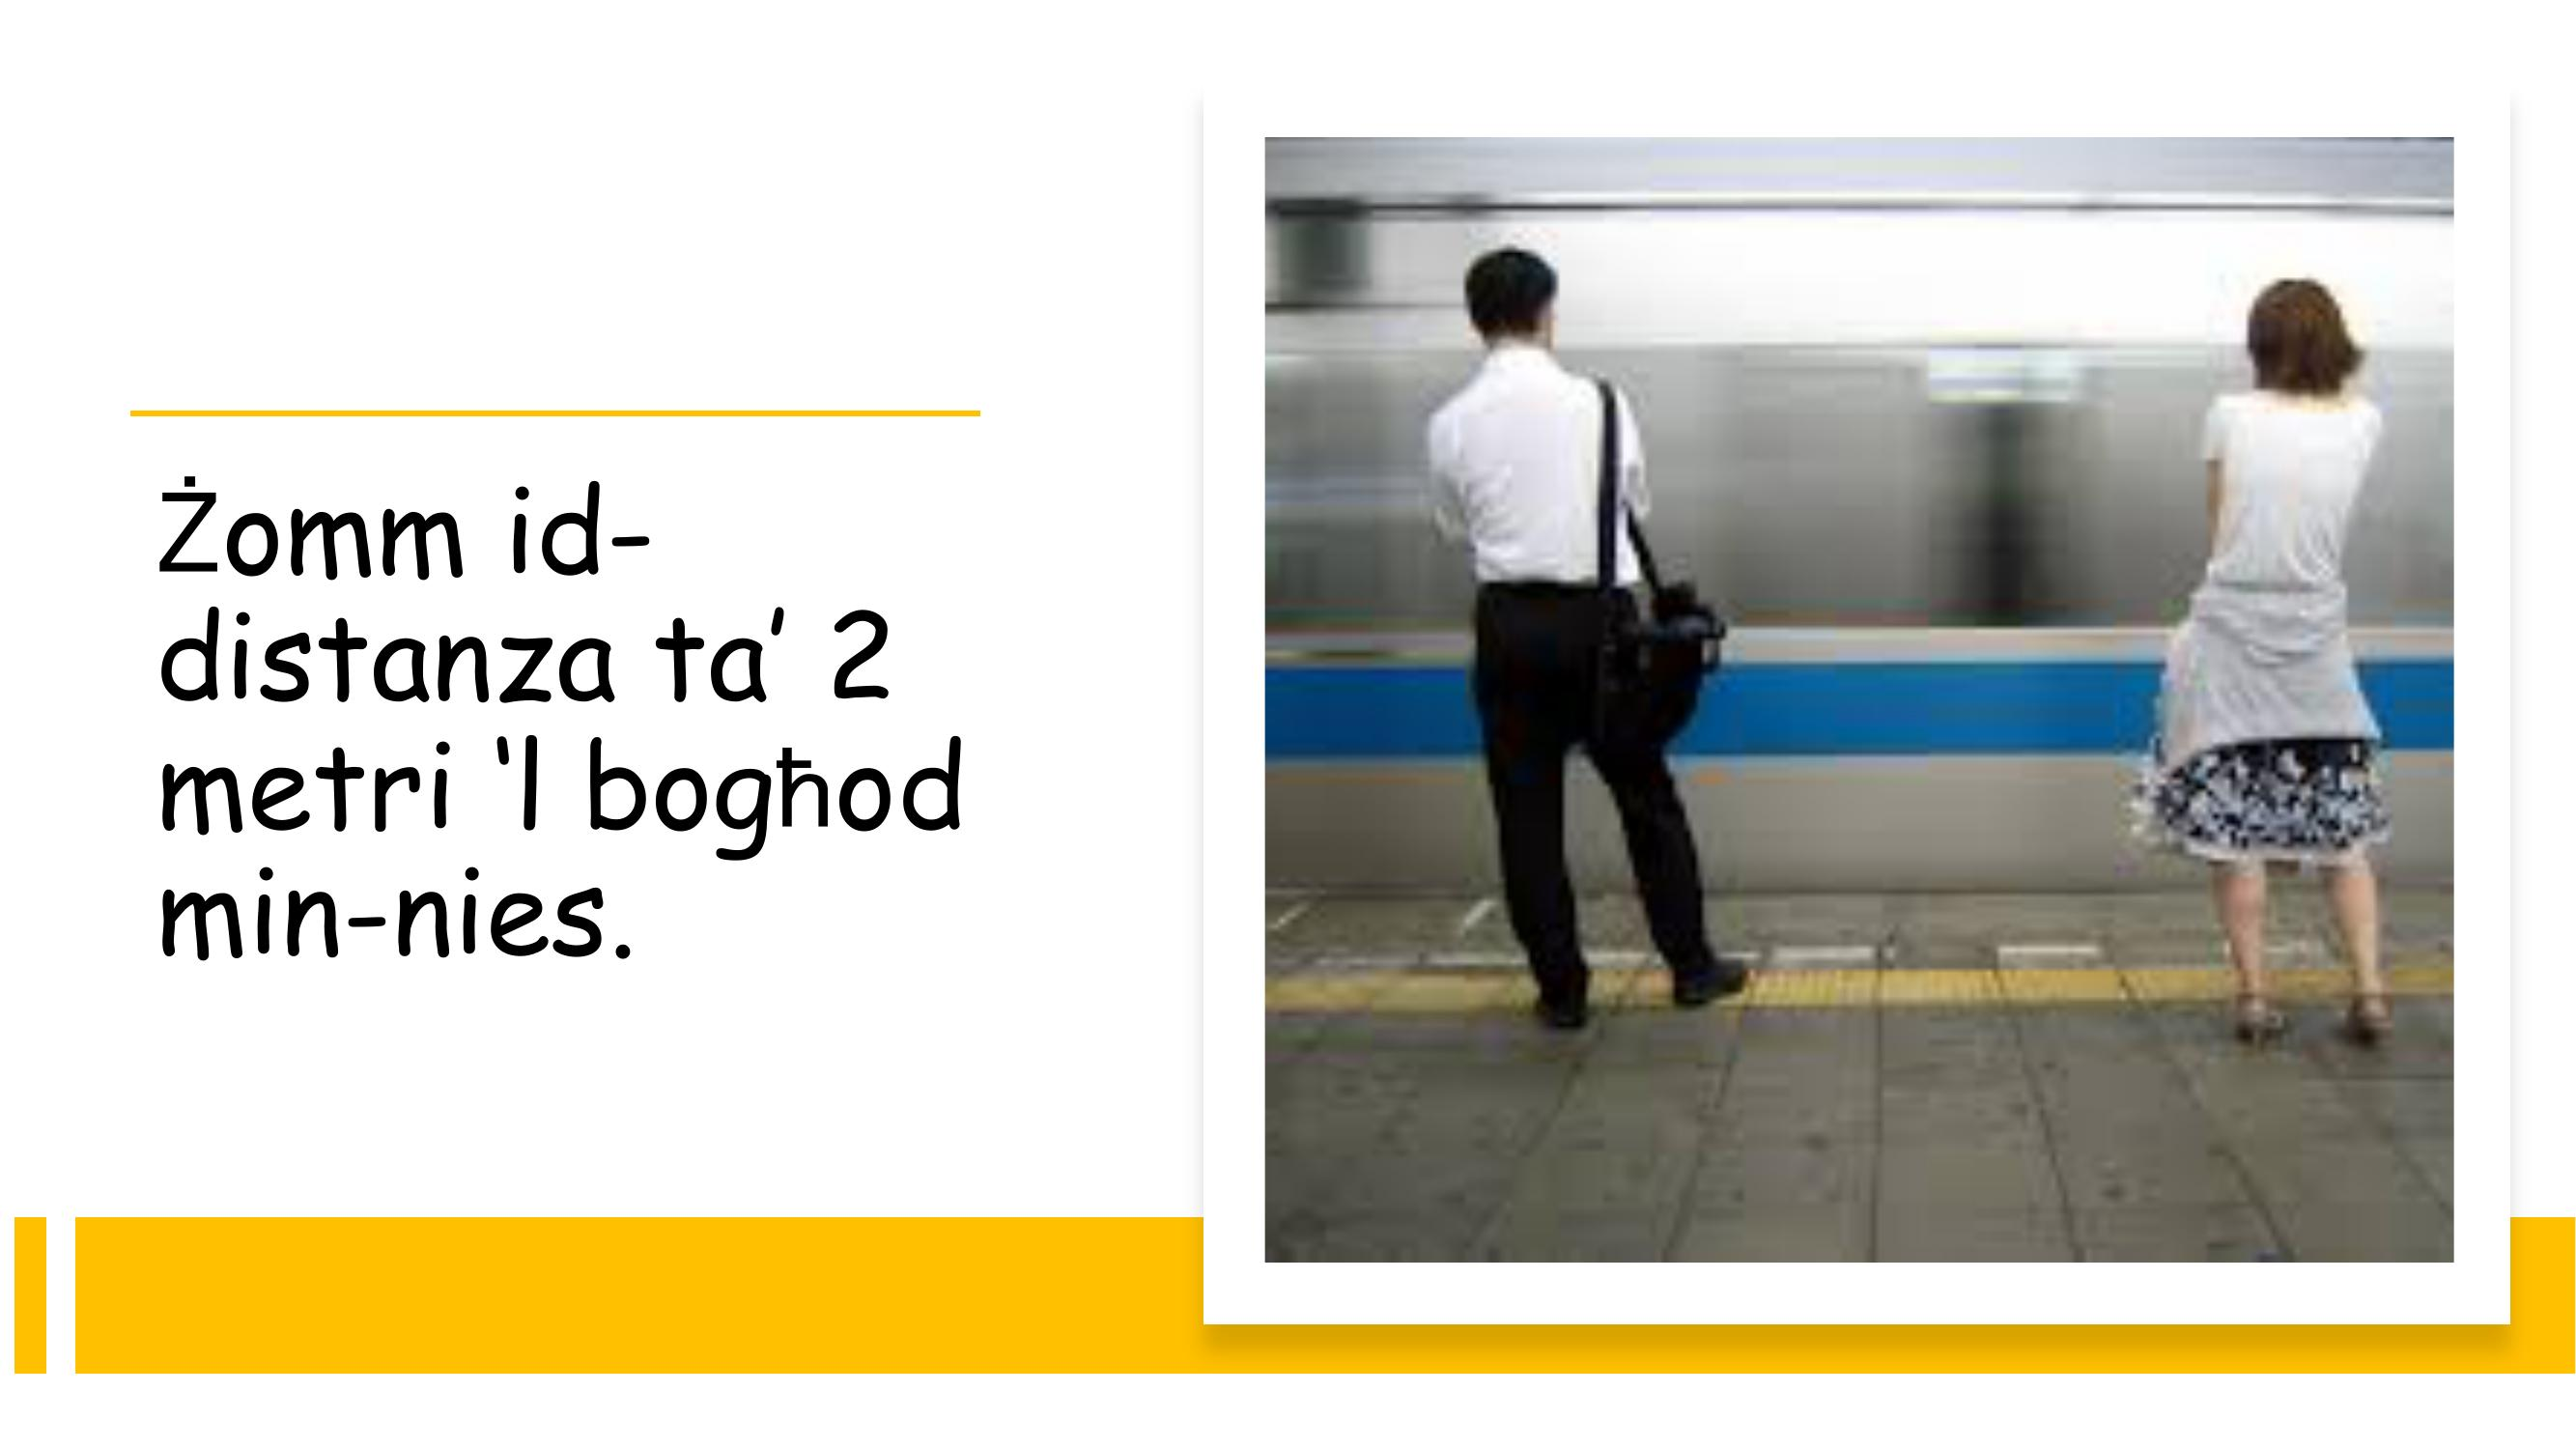text: (115, 448, 1016, 1019)
